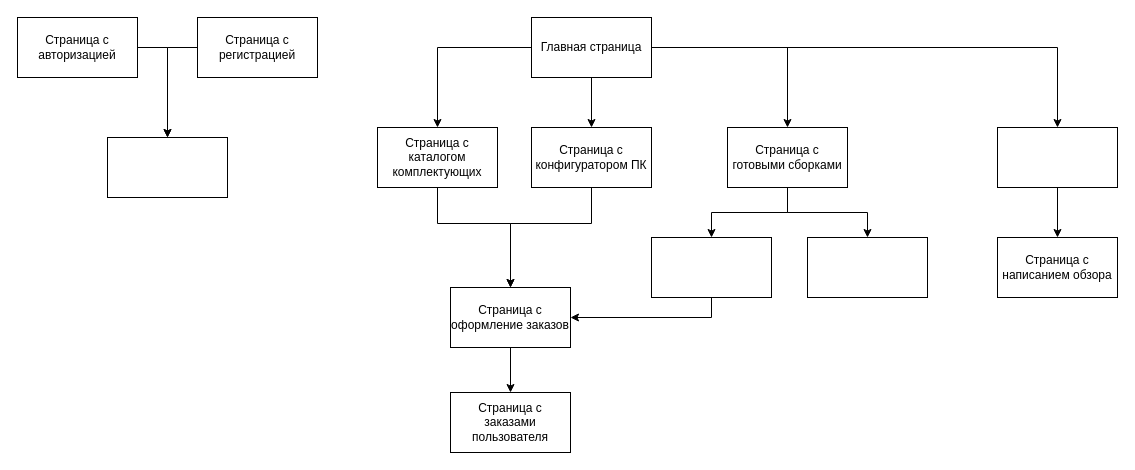
This 1135x470 diagram has some shape labels left out. Here are the shapes that lost their labels. From the top down, the box of each, then its label:
(106, 136, 228, 198): Страница с восстановлением пароля
(996, 126, 1118, 188): Страница с обзорами
(650, 236, 772, 298): Страница сборки
(806, 236, 928, 298): Страница со сравнениями сборок
